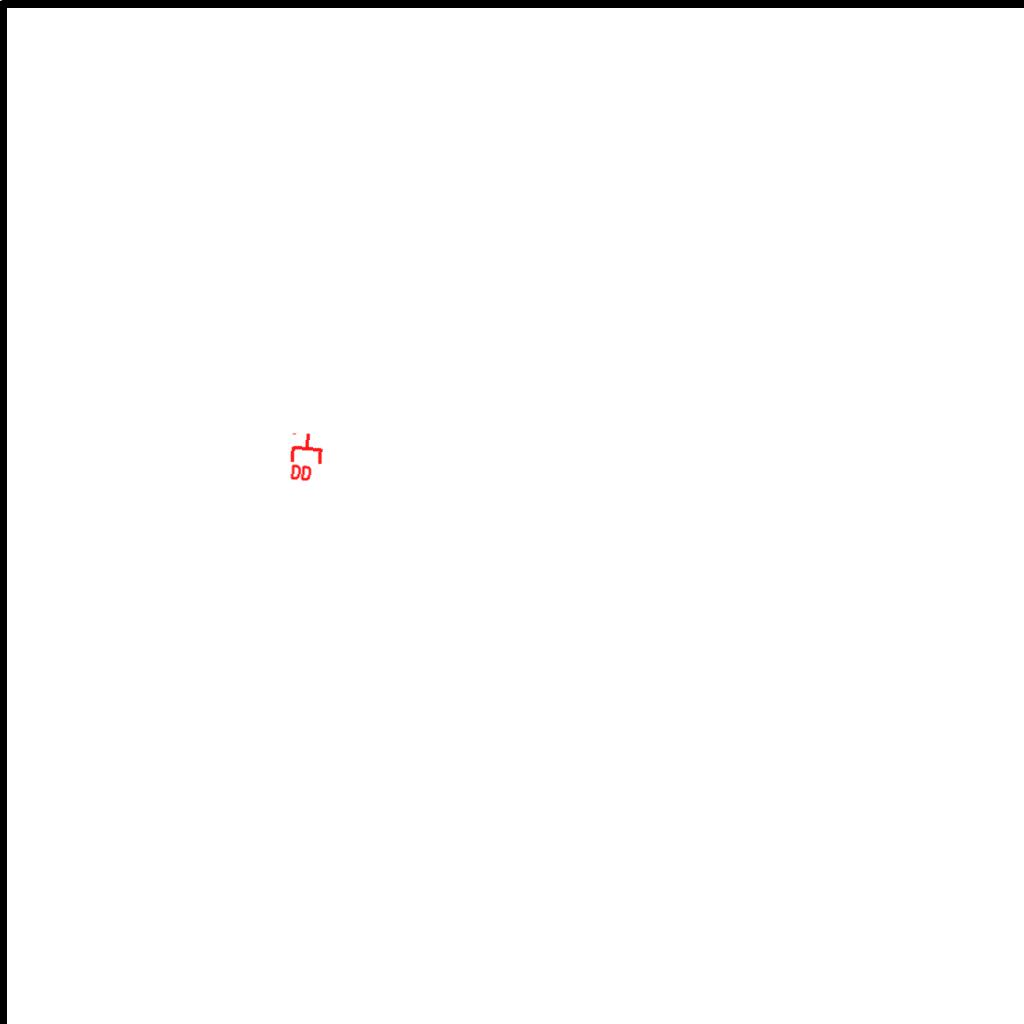Datenanschluss_zweifach: (287, 430, 327, 485)
